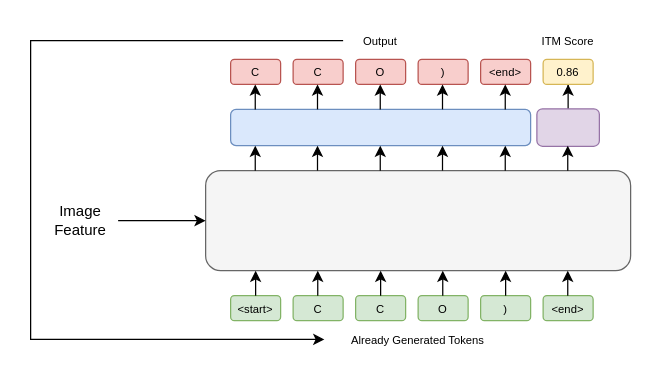
This 653x379 diagram has some shape labels left out. The shapes that lost their labels are listed below. From the top down, each one's centre as x and y in pixels, then its label:
[380,127]: Token Output Projection
[567,127]: Binary Classification Projection
[417,220]: Autoregressive Decoder
